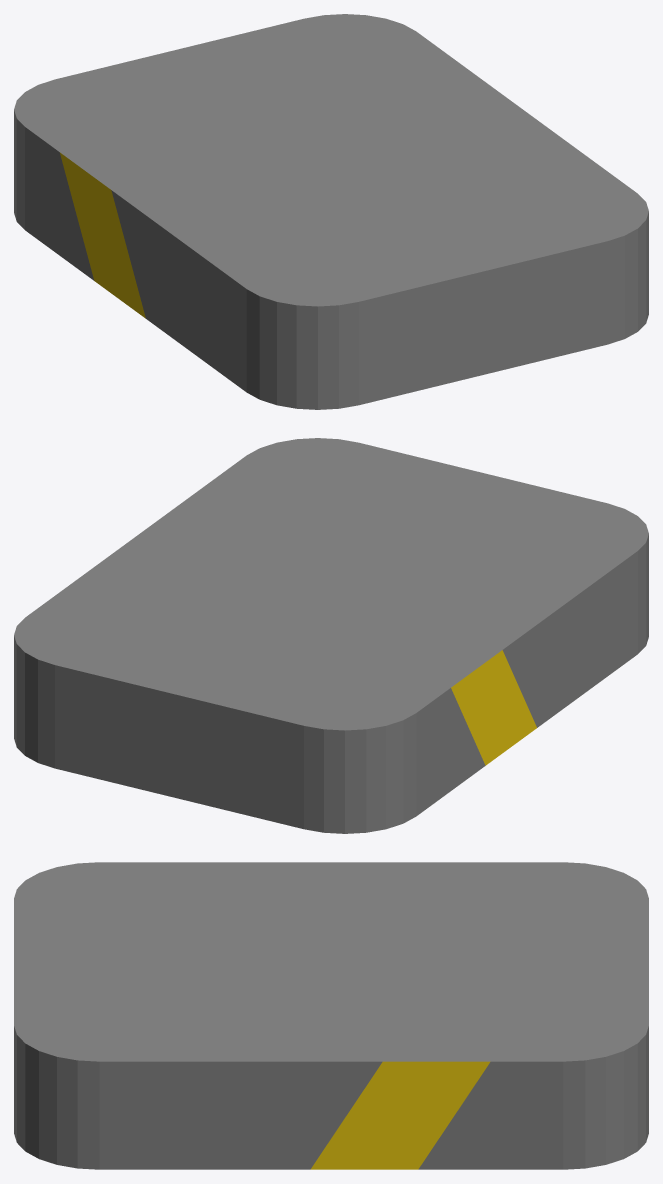
The model's file is chassis_link.dae.
The picture shows the model from 3 angles, top to bottom: view 1: azimuth 30°, elevation 25°; view 2: azimuth 150°, elevation 25°; view 3: azimuth 270°, elevation 25°; orthographic projection. The views are drawn at different scales.
Parts seen in each view (by area): view 1: chassis_link; view 2: chassis_link; view 3: chassis_link.
Part boxes in pixels (box(x1,y1,x2,y2)): chassis_link: box(14, 14, 648, 409); chassis_link: box(14, 438, 648, 833); chassis_link: box(14, 862, 648, 1169).
Size of the model in its own units: 0.55 by 0.74 by 0.139.
